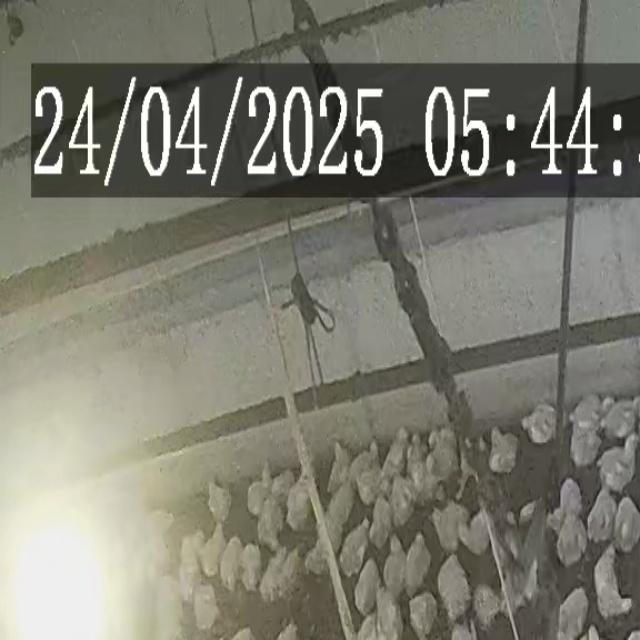chicken: (545, 481, 588, 564), (592, 542, 630, 621), (594, 432, 640, 496), (435, 553, 470, 618), (430, 499, 469, 554), (586, 488, 617, 546), (381, 536, 410, 598), (403, 533, 432, 595), (326, 479, 356, 538), (600, 398, 639, 442), (520, 402, 558, 447), (484, 522, 515, 577), (556, 587, 590, 637), (483, 426, 519, 473), (611, 496, 640, 554), (456, 507, 490, 555), (200, 524, 228, 582), (338, 522, 368, 576), (178, 540, 203, 604), (218, 534, 246, 590), (408, 430, 432, 494), (566, 392, 604, 432), (354, 556, 380, 613), (285, 477, 314, 528), (237, 539, 264, 593), (568, 423, 600, 468), (246, 462, 271, 518), (374, 590, 403, 638), (368, 495, 394, 548), (256, 498, 283, 549), (472, 584, 503, 627), (192, 586, 220, 632), (408, 592, 438, 634), (389, 478, 415, 526), (206, 478, 233, 524), (348, 449, 375, 492), (326, 444, 348, 495), (383, 429, 409, 472), (557, 476, 583, 518), (356, 467, 382, 507), (269, 468, 294, 505)
